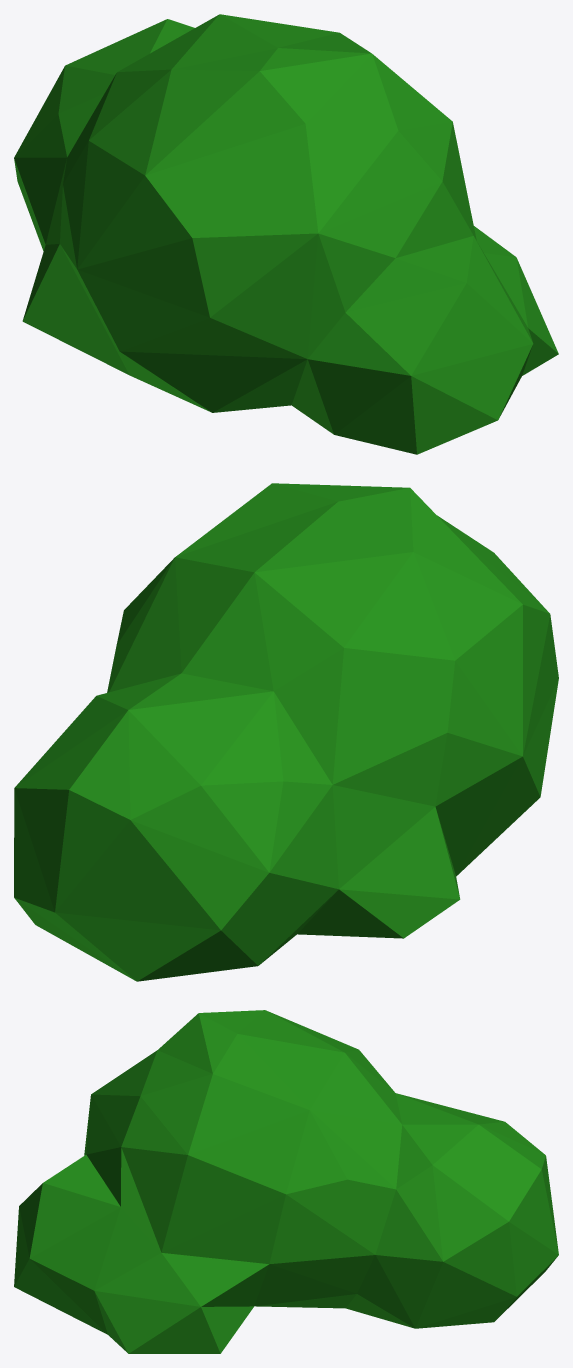
The model's file is Forest_005.fbx.
3 views of the same model, one above another, from view 1: azimuth 30°, elevation 25°; view 2: azimuth 150°, elevation 25°; view 3: azimuth 270°, elevation 25° (orthographic). The views are drawn at different scales.
Visible parts, largest first — view 1: Forest_005; view 2: Forest_005; view 3: Forest_005.
Boxes of the visible parts, x1,y1,x2,y2 form: Forest_005: [14, 14, 558, 454]; Forest_005: [14, 483, 558, 981]; Forest_005: [14, 1010, 558, 1353].
Bounding box in the file's own units: 400 × 300 × 600.
